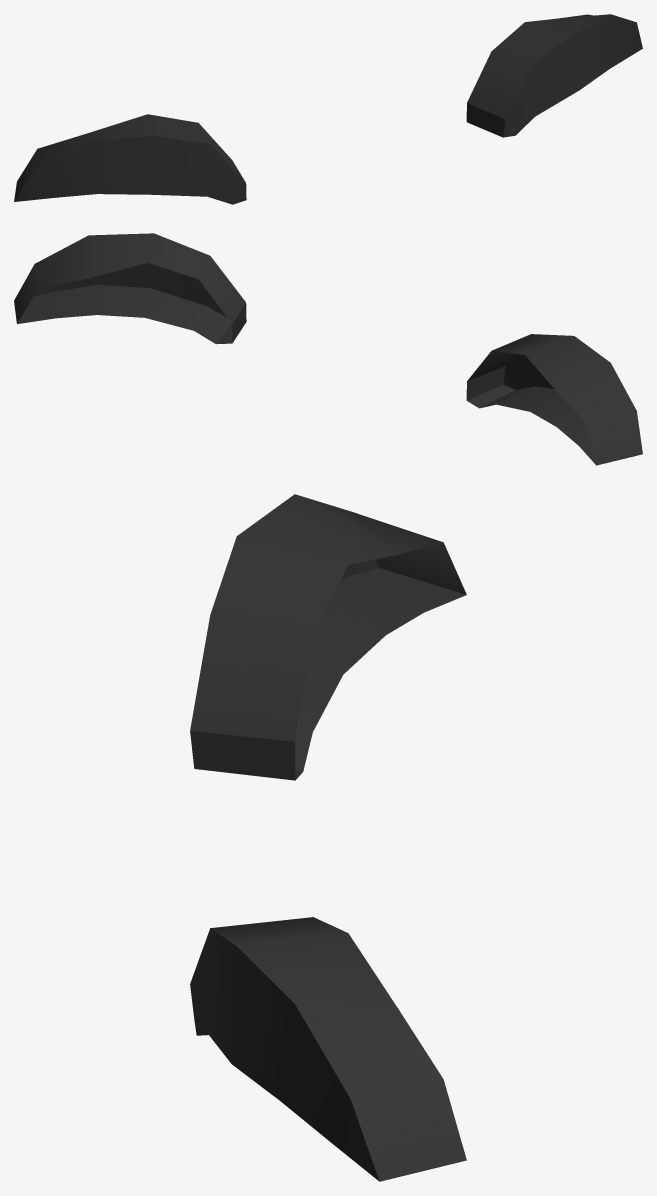
File: Eyebrow_13.fbx
3 views of the same model, one above another, from view 1: azimuth 30°, elevation 25°; view 2: azimuth 150°, elevation 25°; view 3: azimuth 270°, elevation 25° (orthographic). The views are drawn at different scales.
Visible parts, largest first — view 1: Eyebrow_13; view 2: Eyebrow_13; view 3: Eyebrow_13.
Boxes of the visible parts, <box> form: Eyebrow_13: <box>14,14,642,204</box>; Eyebrow_13: <box>14,233,642,465</box>; Eyebrow_13: <box>190,494,466,1181</box>.
Size of the model in its own units: 33.06 by 3.99 by 6.3.
